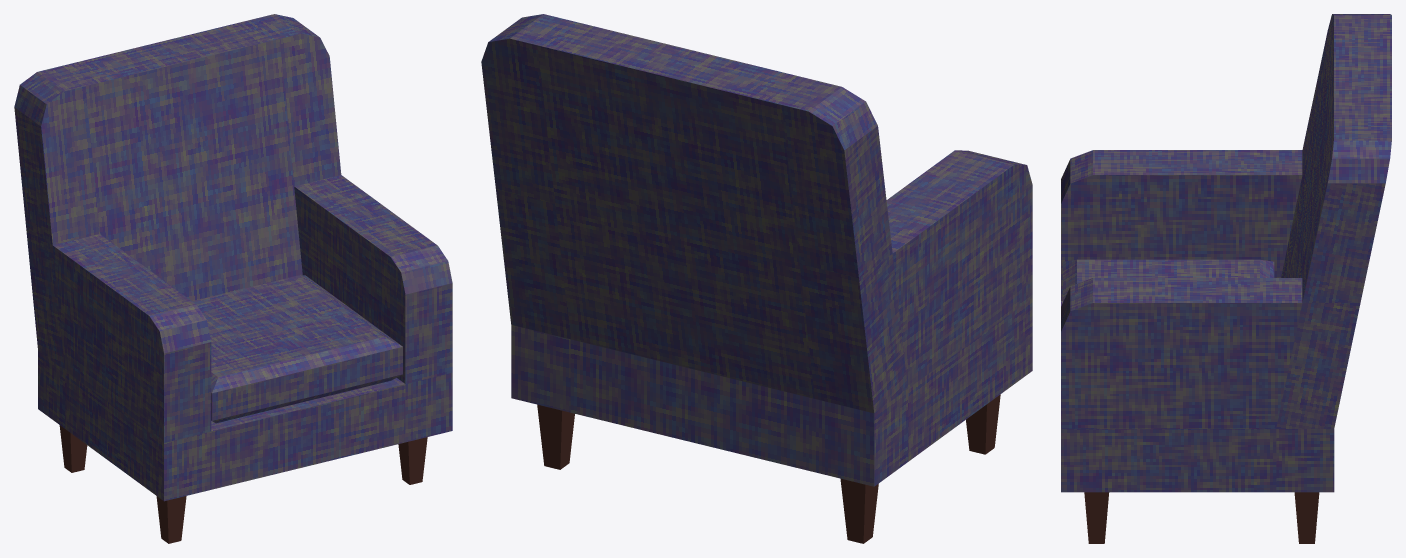
Rendered from armchair-blue.glb.
The picture shows the model from 3 angles, left to right: view 1: azimuth 30°, elevation 25°; view 2: azimuth 150°, elevation 25°; view 3: azimuth 270°, elevation 25°; orthographic projection. The views are drawn at different scales.
Visible parts, largest first — view 1: Armchair, Armchair.001; view 2: Armchair, Armchair.001; view 3: Armchair, Armchair.001.
Part boxes in pixels (x1=…): Armchair: x1=14, y1=14, x2=452, y2=501; Armchair.001: x1=59, y1=425, x2=427, y2=543; Armchair: x1=481, y1=14, x2=1032, y2=486; Armchair.001: x1=537, y1=394, x2=1000, y2=543; Armchair: x1=1061, y1=14, x2=1391, y2=492; Armchair.001: x1=1084, y1=492, x2=1319, y2=543.
Bounding box in the file's own units: 0.5881 × 0.7162 × 0.5384.
Materials: 2 (2 with a texture image).
